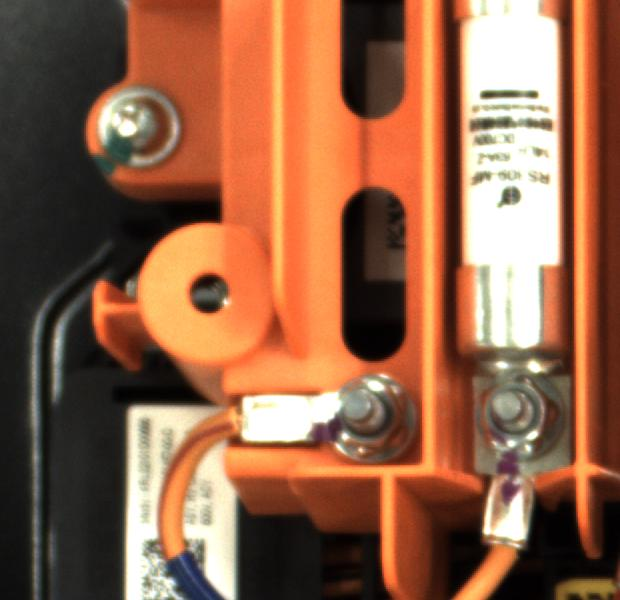screw_m: (76, 74, 198, 182)
screw_s: (469, 370, 575, 460), (330, 368, 413, 453)
